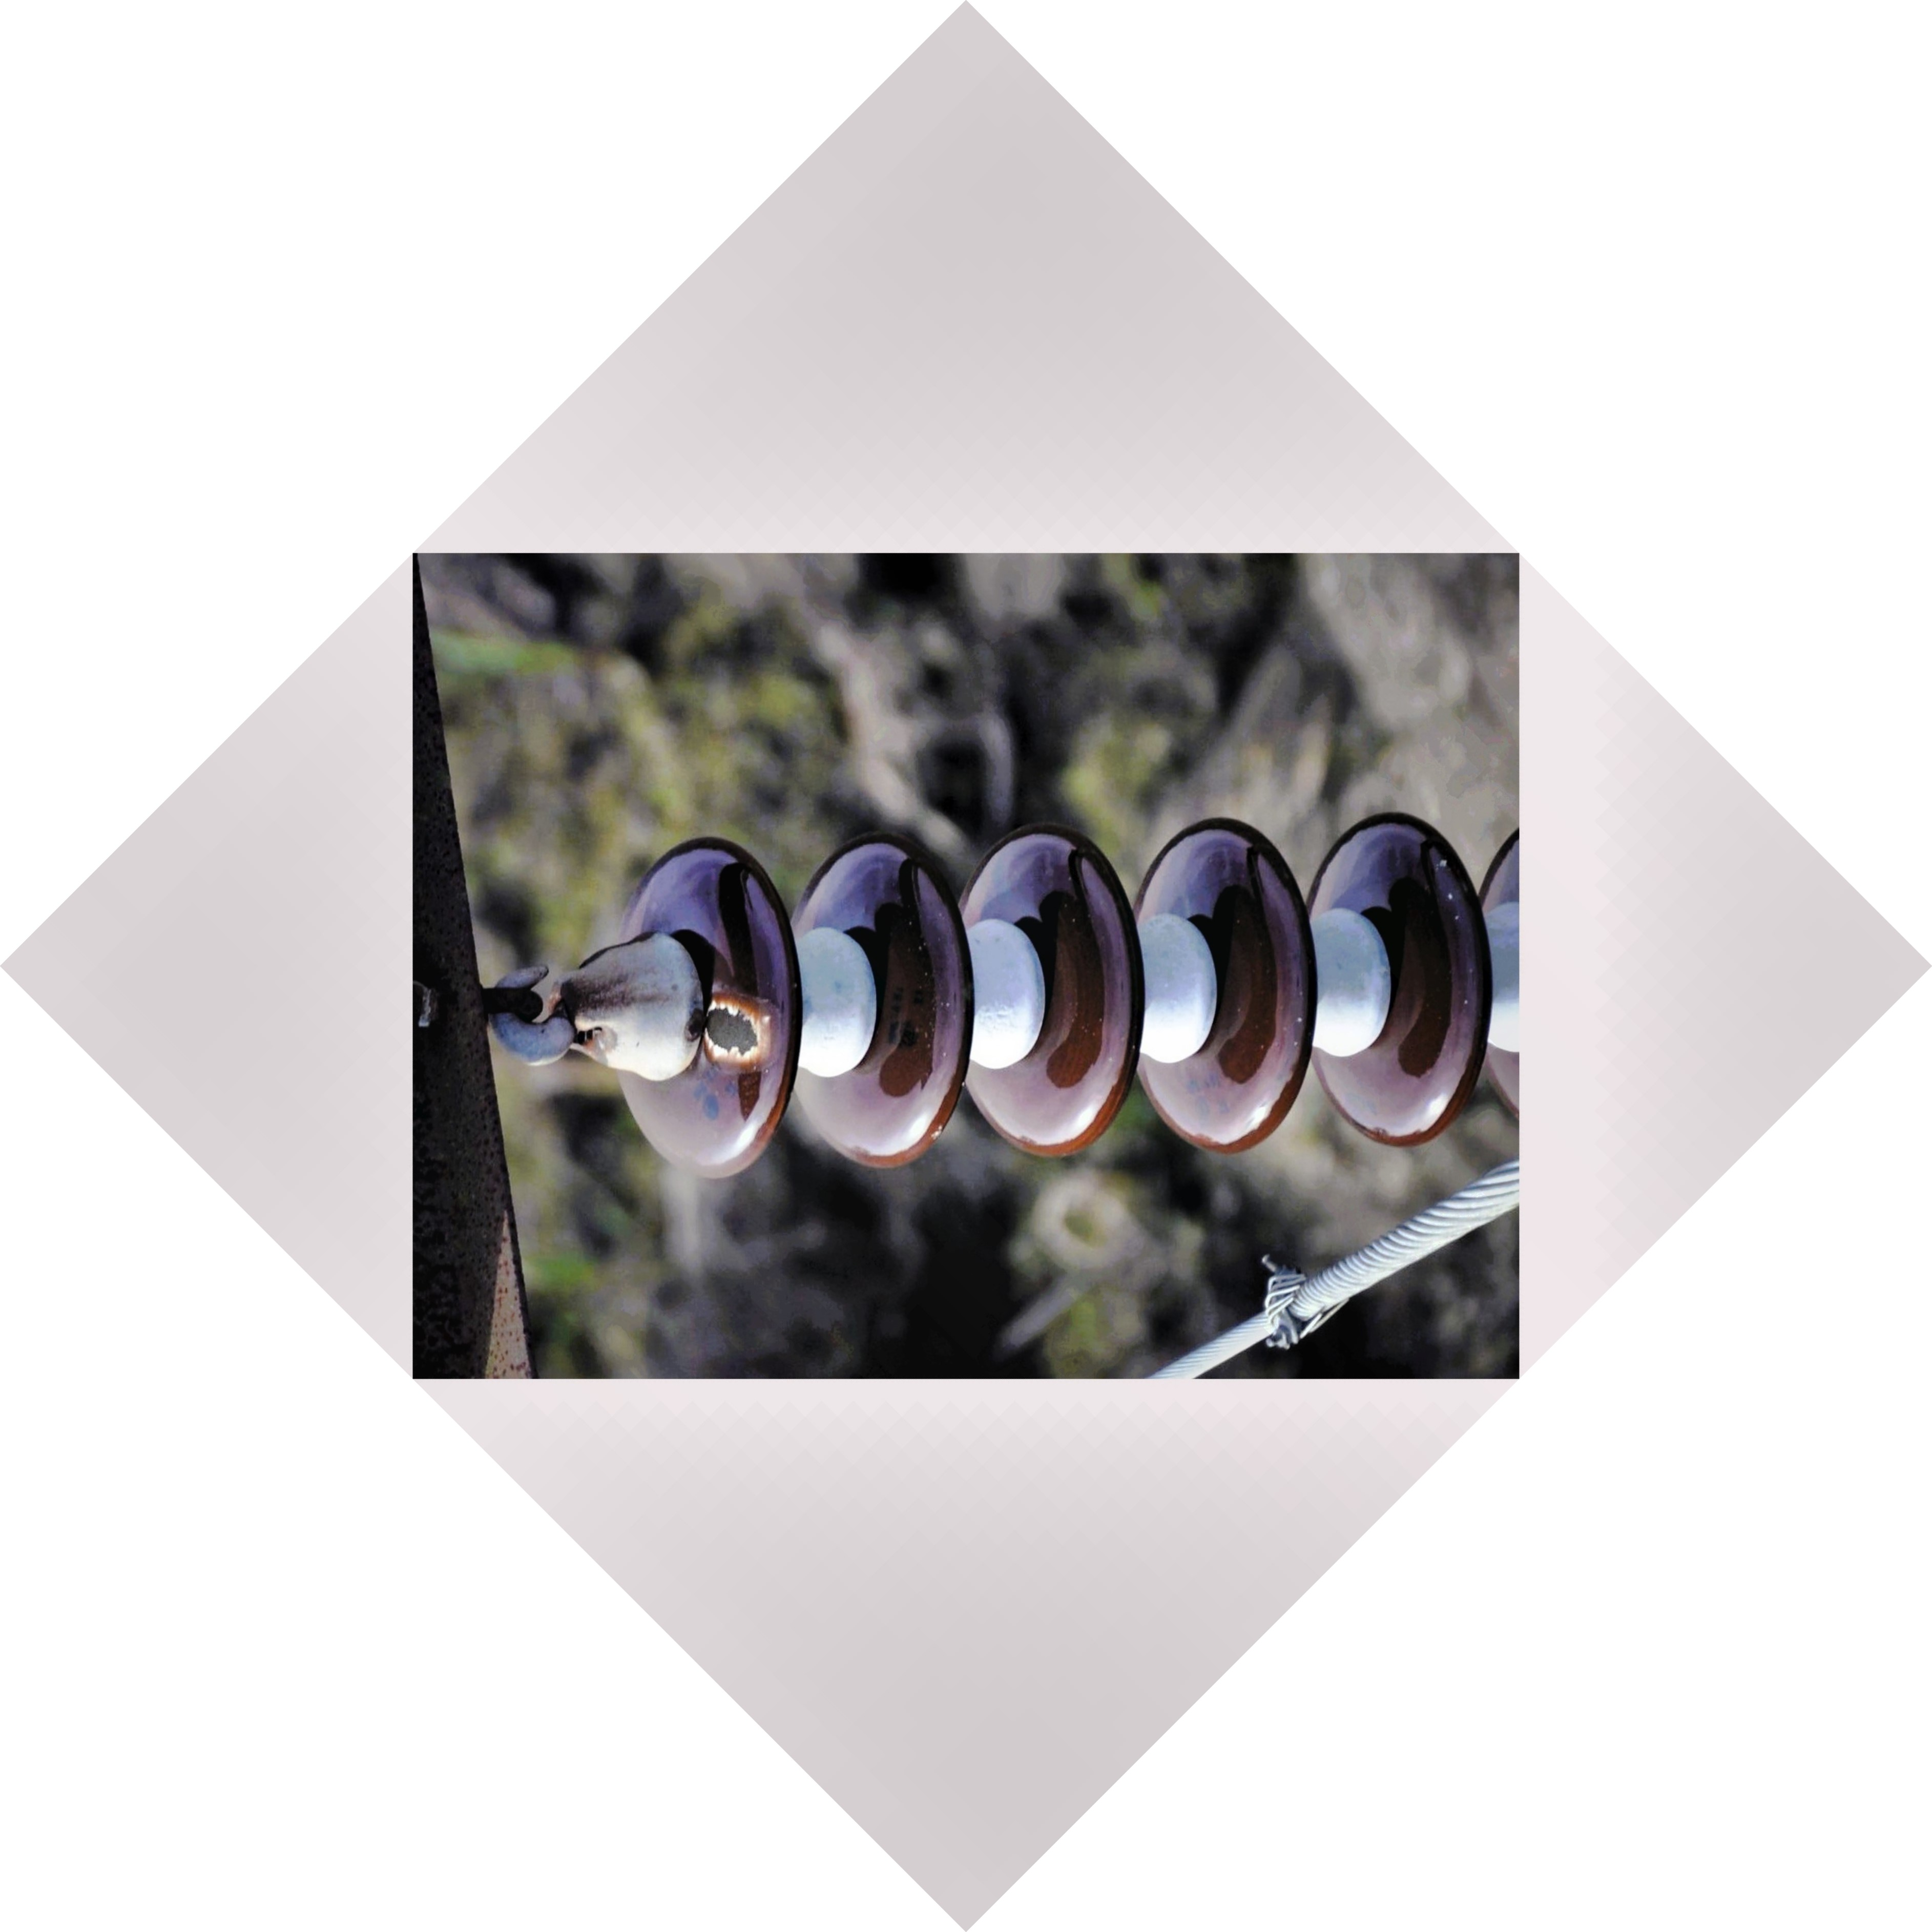Insulator flashover: (584, 832, 816, 1185)
